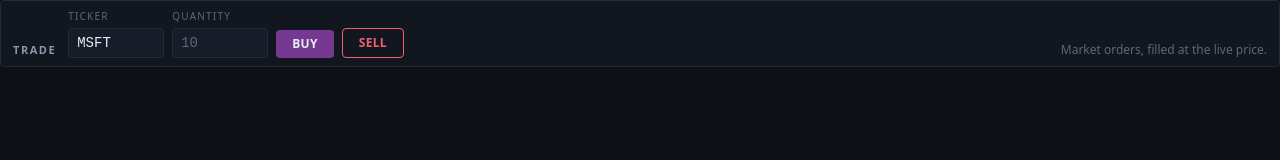
Test case: TradeBar › keeps the order on screen when it was rejected, so it can be corrected
Replace the text in the field labelled "Ticker" with "AAPL" at {"x": 116, "y": 43}, box [68,28,164,58]
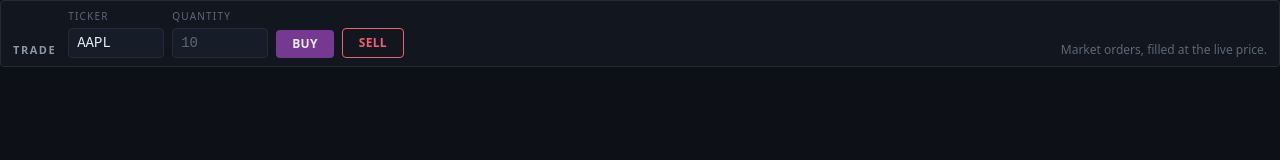
Type "100" into the number field labelled "Quantity" at {"x": 220, "y": 43}, box [172,28,268,58]
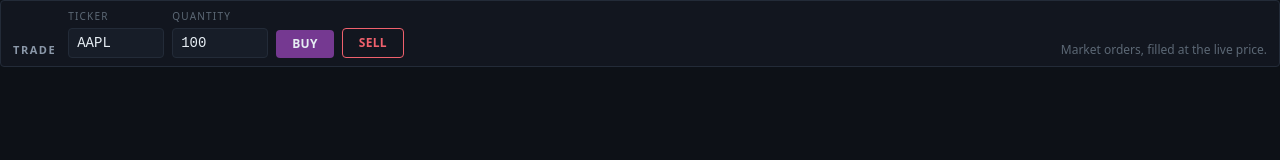
Click the button "Buy" at {"x": 305, "y": 44}, box [276,30,334,58]
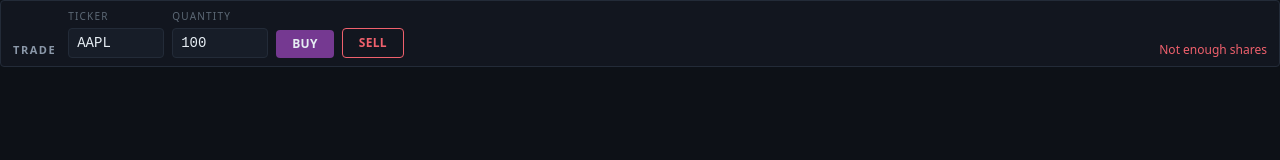
Now the message "Not enough shares" is shown, box [1159,41,1267,58]
